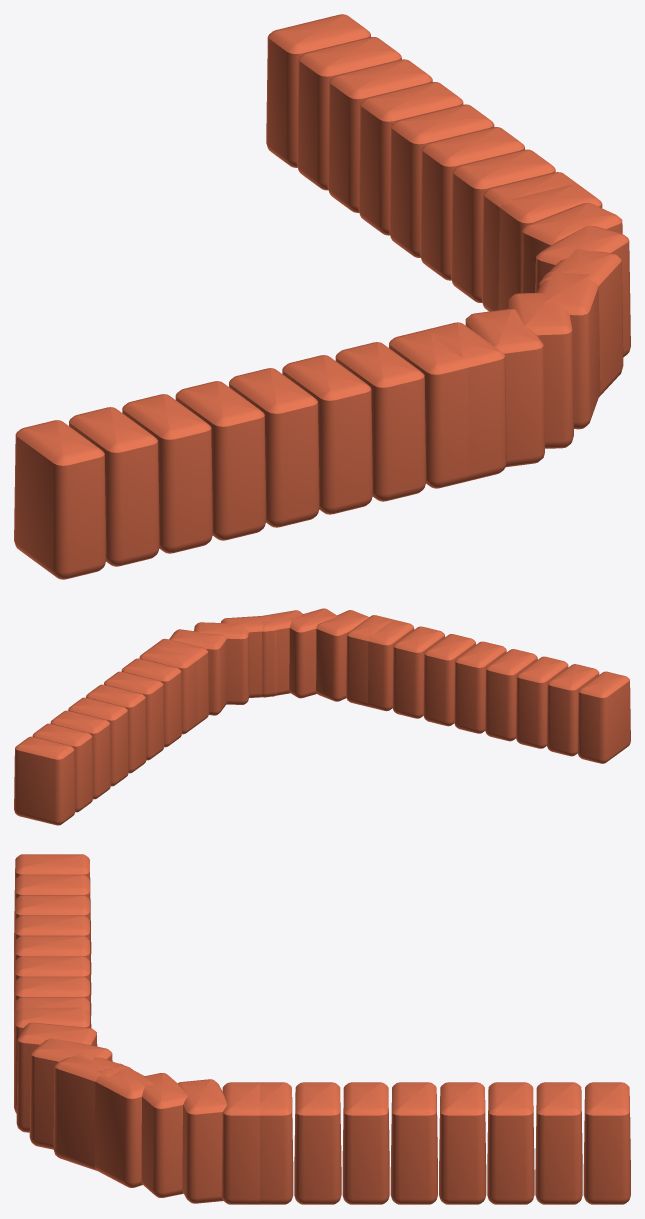
File: motorcycle-racing-and-street-bikes-air-fence-connector-7fee8a33__15483.glb
3 views of the same model, one above another, from view 1: azimuth 30°, elevation 25°; view 2: azimuth 150°, elevation 25°; view 3: azimuth 270°, elevation 25° (orthographic). The views are drawn at different scales.
Visible parts, largest first — view 1: 000-air-fence-module/0, 002-air-fence-module/0, 001-air-fence-corner/0; view 2: 000-air-fence-module/0, 002-air-fence-module/0, 001-air-fence-corner/0; view 3: 002-air-fence-module/0, 001-air-fence-corner/0, 000-air-fence-module/0.
Boxes of the visible parts, x1,y1,x2,y2 form: 000-air-fence-module/0: (14, 329, 469, 579); 002-air-fence-module/0: (266, 14, 577, 311); 001-air-fence-corner/0: (426, 184, 630, 481); 000-air-fence-module/0: (367, 620, 630, 763); 002-air-fence-module/0: (14, 647, 197, 825); 001-air-fence-corner/0: (152, 608, 394, 724); 002-air-fence-module/0: (255, 1082, 630, 1204); 001-air-fence-corner/0: (14, 1007, 259, 1204); 000-air-fence-module/0: (14, 854, 91, 1084).
Size of the model in its own units: 6.4 by 1.1 by 6.4.
